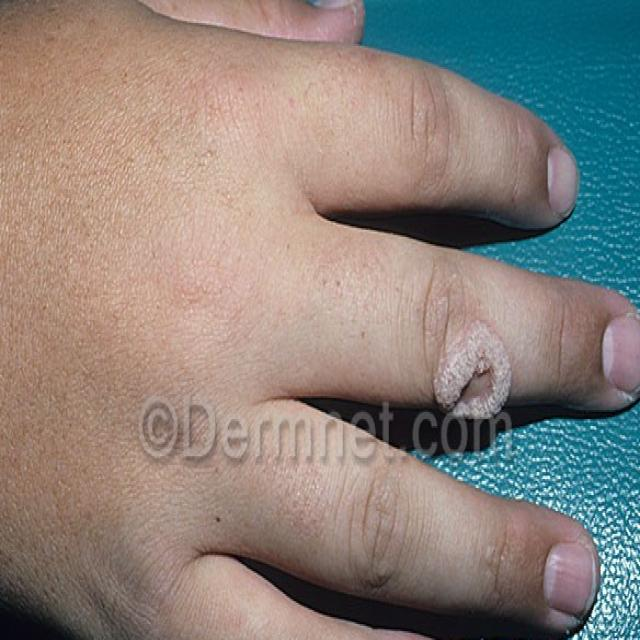Warts: (432, 275, 519, 434)
